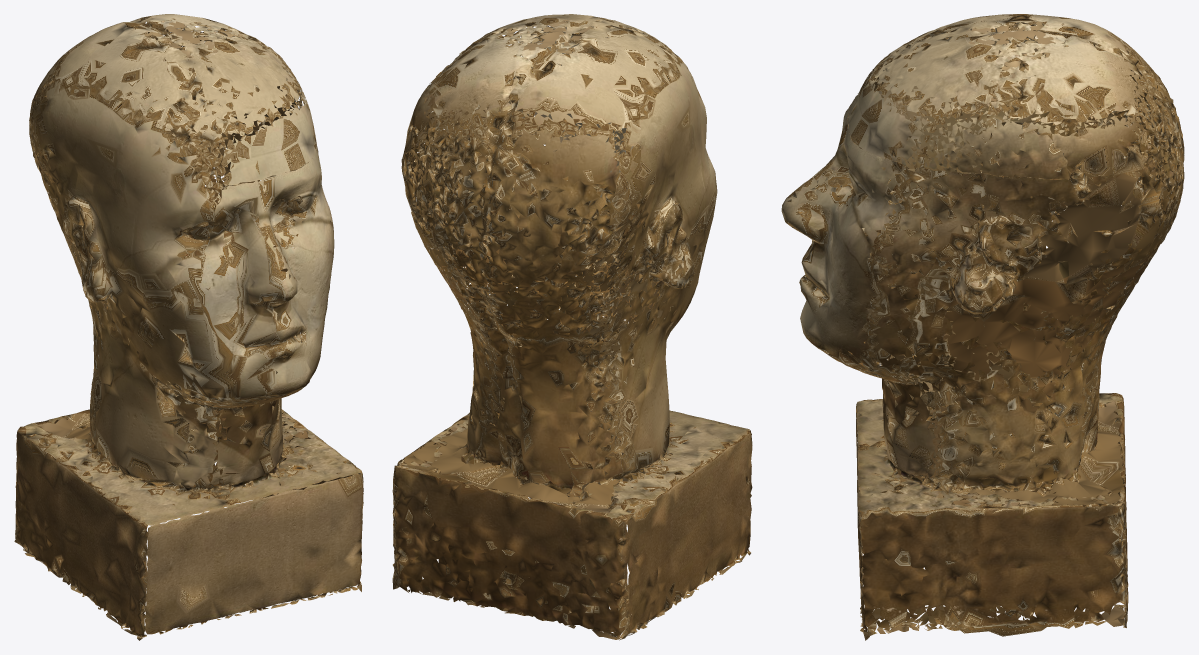
Rendered from cabeca-reserva.glb.
3 views of the same model, side by side, from view 1: azimuth 30°, elevation 25°; view 2: azimuth 150°, elevation 25°; view 3: azimuth 270°, elevation 25° (orthographic). The views are drawn at different scales.
Parts seen in each view (by area): view 1: Object_2, Object_36; view 2: Object_2, Object_36; view 3: Object_2, Object_36.
Part boxes in pixels (<box>): Object_2: <box>14,14,363,637</box>; Object_36: <box>15,18,363,640</box>; Object_2: <box>392,14,752,638</box>; Object_36: <box>393,20,750,640</box>; Object_2: <box>781,14,1184,636</box>; Object_36: <box>847,20,1181,640</box>.
Size of the model in its own units: 17.07 by 36.96 by 24.39.
2 materials, 2 textured.
